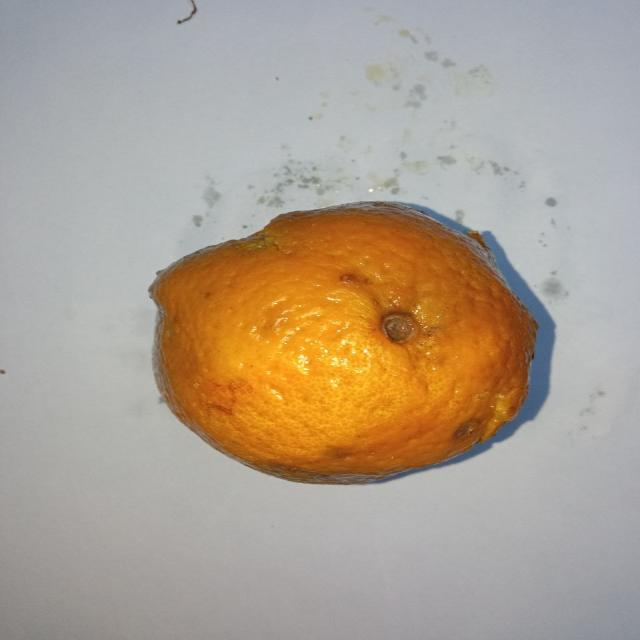rotten_orange: (146, 201, 536, 479)
